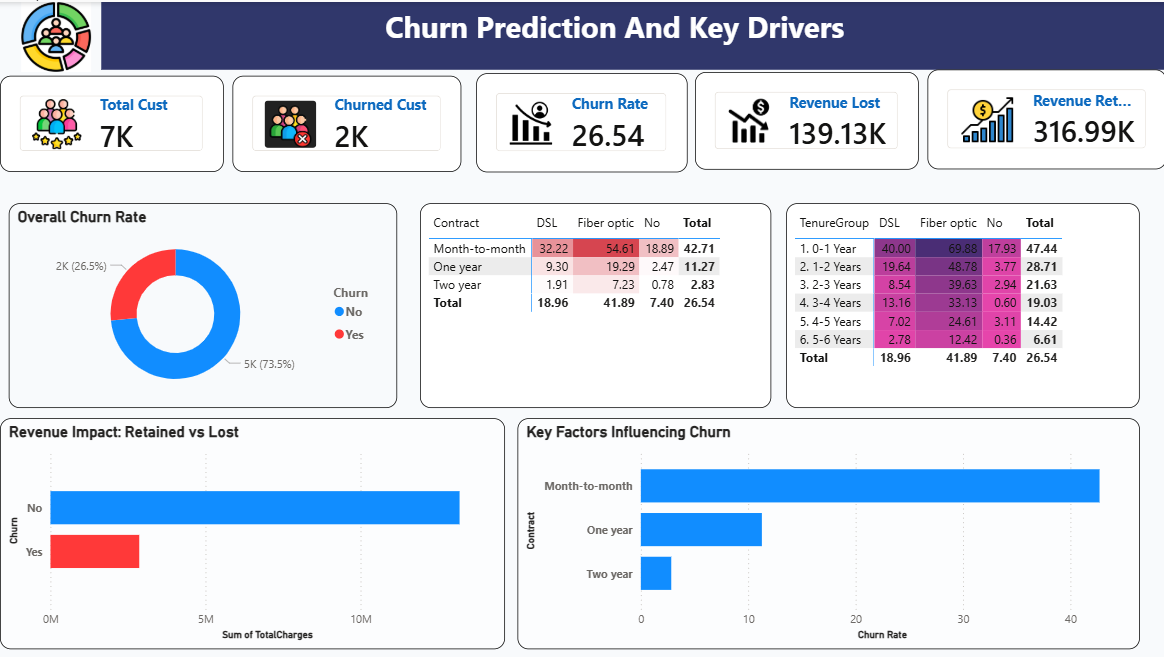

Layout of this report page (visuals, bound fields, positions):
{"tool":"powerbi","page":{"name":"Page 4","canvas":[1280,720],"ordinal":2},"visuals":[{"type":"donutChart","title":"Overall Churn Rate","fields":{"Category":["CustomerChurn.Churn"],"Y":["CustomerChurn.Total Customers"]},"box":[9.6,220.9,426.8,225],"z":0},{"type":"clusteredBarChart","title":"Key Factors Influencing Churn","fields":{"Y":["CustomerChurn.Churn Rate"],"Category":["CustomerChurn.Contract","CustomerChurn.InternetService","CustomerChurn.TenureGroup","CustomerChurn.PaymentMethod","CustomerChurn.SeniorCitizen","CustomerChurn.PaperlessBilling"]},"box":[568.1,456.9,683.4,253.9],"z":1000},{"type":"pivotTable","fields":{"Rows":["CustomerChurn.Contract"],"Values":["CustomerChurn.Churn Rate"],"Columns":["CustomerChurn.InternetService"]},"box":[461.1,220.9,385.6,225],"z":2000},{"type":"clusteredBarChart","title":"Revenue Impact: Retained vs Lost","fields":{"Category":["CustomerChurn.Churn"],"Y":["Sum(CustomerChurn.TotalCharges)"]},"box":[0,456.9,554.4,253.9],"z":3000},{"type":"pivotTable","fields":{"Rows":["CustomerChurn.Contract","CustomerChurn.TenureGroup"],"Columns":["CustomerChurn.InternetService"],"Values":["CustomerChurn.Churn Rate"]},"box":[863.1,220.9,388.3,225],"z":4000},{"type":"textbox","box":[111.1,0,1169.1,74.1],"z":5000},{"type":"cardVisual","fields":{"Data":["CustomerChurn.Total Customers"]},"box":[0,81,245.6,105.7],"z":6000},{"type":"cardVisual","fields":{"Data":["CustomerChurn.Revenue Retained"]},"box":[1018.2,74.1,262.1,109.8],"z":7000},{"type":"cardVisual","fields":{"Data":["CustomerChurn.Churned Customers"]},"box":[262.1,81,251.1,105.7],"z":8000},{"type":"cardVisual","fields":{"Data":["CustomerChurn.Churn Rate"]},"box":[522.8,78.2,240.1,108.4],"z":9000},{"type":"cardVisual","fields":{"Data":["CustomerChurn.Revenue Lost"]},"box":[763,76.8,245.6,107],"z":10000},{"type":"image","box":[0,0,123.5,76.8],"z":11000}]}

Visuals, with their boxes in screenshot pixels (x1, y1, x2, y2), scaled from the page's 1280x720 canvas onto the 1164x657 screenshot:
"Overall Churn Rate" donutChart: [9,202,397,407]
"Key Factors Influencing Churn" clusteredBarChart: [517,417,1138,649]
pivotTable - CustomerChurn.Contract x CustomerChurn.Churn Rate: [419,202,770,407]
"Revenue Impact: Retained vs Lost" clusteredBarChart: [0,417,504,649]
pivotTable - CustomerChurn.Contract x CustomerChurn.TenureGroup: [785,202,1138,407]
textbox: [101,0,1163,68]
cardVisual - CustomerChurn.Total Customers: [0,74,223,170]
cardVisual - CustomerChurn.Revenue Retained: [926,68,1163,168]
cardVisual - CustomerChurn.Churned Customers: [238,74,467,170]
cardVisual - CustomerChurn.Churn Rate: [475,71,694,170]
cardVisual - CustomerChurn.Revenue Lost: [694,70,917,168]
image: [0,0,112,70]
